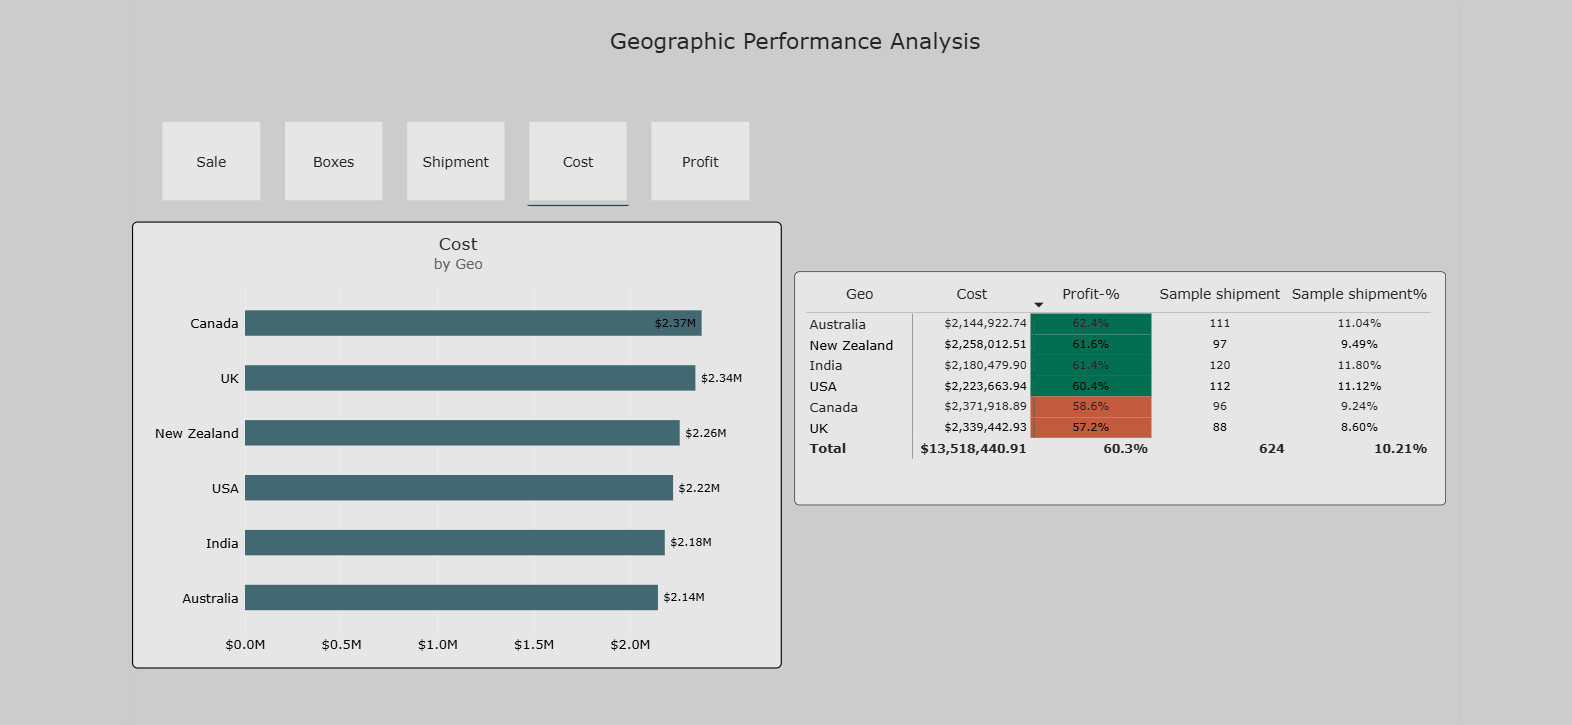

Layout of this report page (visuals, bound fields, positions):
{"tool":"powerbi","page":{"name":"Geo analysis","canvas":[1920,1080],"ordinal":1},"visuals":[{"type":"advancedSlicerVisual","fields":{"Values":["Measure kpi parameter.Measure kpi parameter"]},"box":[8.1,175.3,927,147.1],"z":0},{"type":"textbox","box":[0,54.4,1920.4,60.5],"z":1000},{"type":"clusteredBarChart","fields":{"Category":["locations.Geo"],"Y":["A-Measure.Total cost"]},"box":[0,336.5,941.1,646.9],"z":2000},{"type":"pivotTable","fields":{"Rows":["locations.Geo"],"Values":["A-Measure.Total cost","A-Measure.Profit-%","A-Measure.Sample shipment","A-Measure.Sample shipment%"]},"box":[959.1,409,942.8,338.4],"z":3000}]}

Visuals, with their boxes on the page's 1920x1080 design canvas (x1, y1, x2, y2). These are canvas units, not pixel positions in the 1572x725 screenshot, which may show the page scaled, cropped or inside an application window:
advancedSlicerVisual - Measure kpi parameter.Measure kpi parameter: (8,175,935,322)
textbox: (0,54,1920,115)
clusteredBarChart - locations.Geo x A-Measure.Total cost: (0,336,941,983)
pivotTable - locations.Geo x A-Measure.Total cost: (959,409,1902,747)
